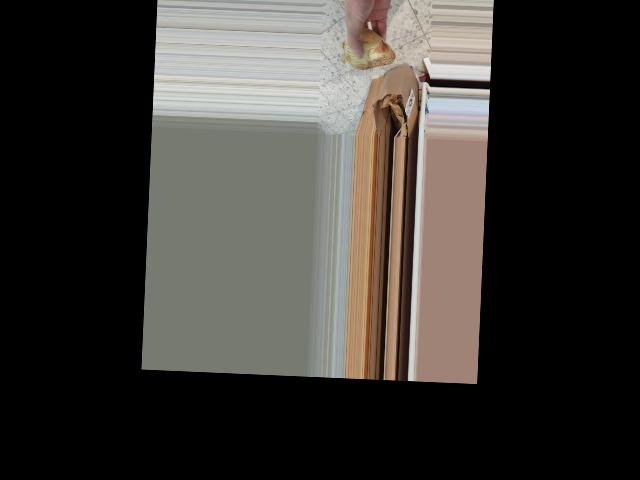onion: (339, 23, 394, 76)
